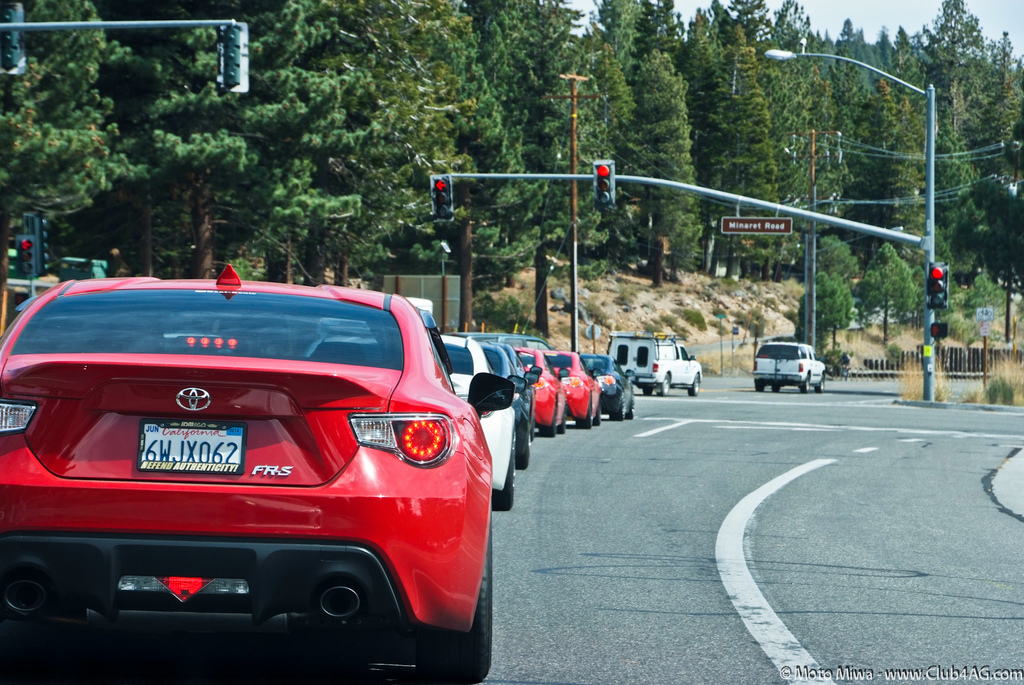license plate: (141, 426, 248, 474)
